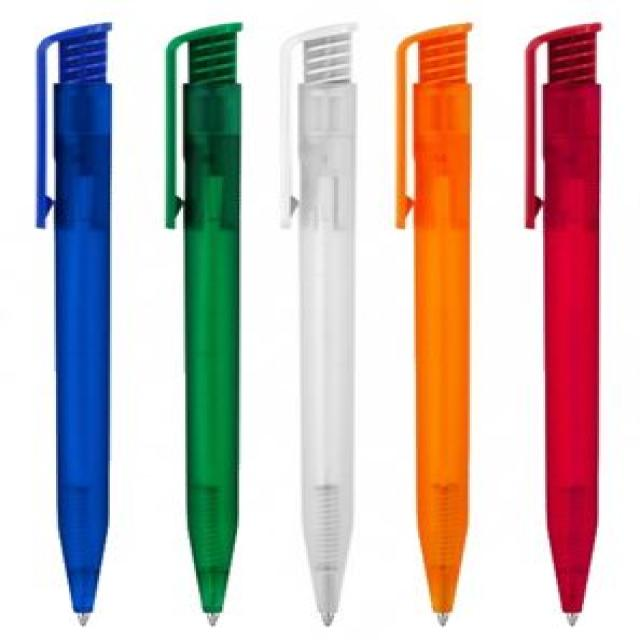Plastic: (17, 20, 152, 632), (140, 15, 272, 631), (496, 14, 620, 632), (371, 18, 493, 630), (261, 17, 379, 630)
